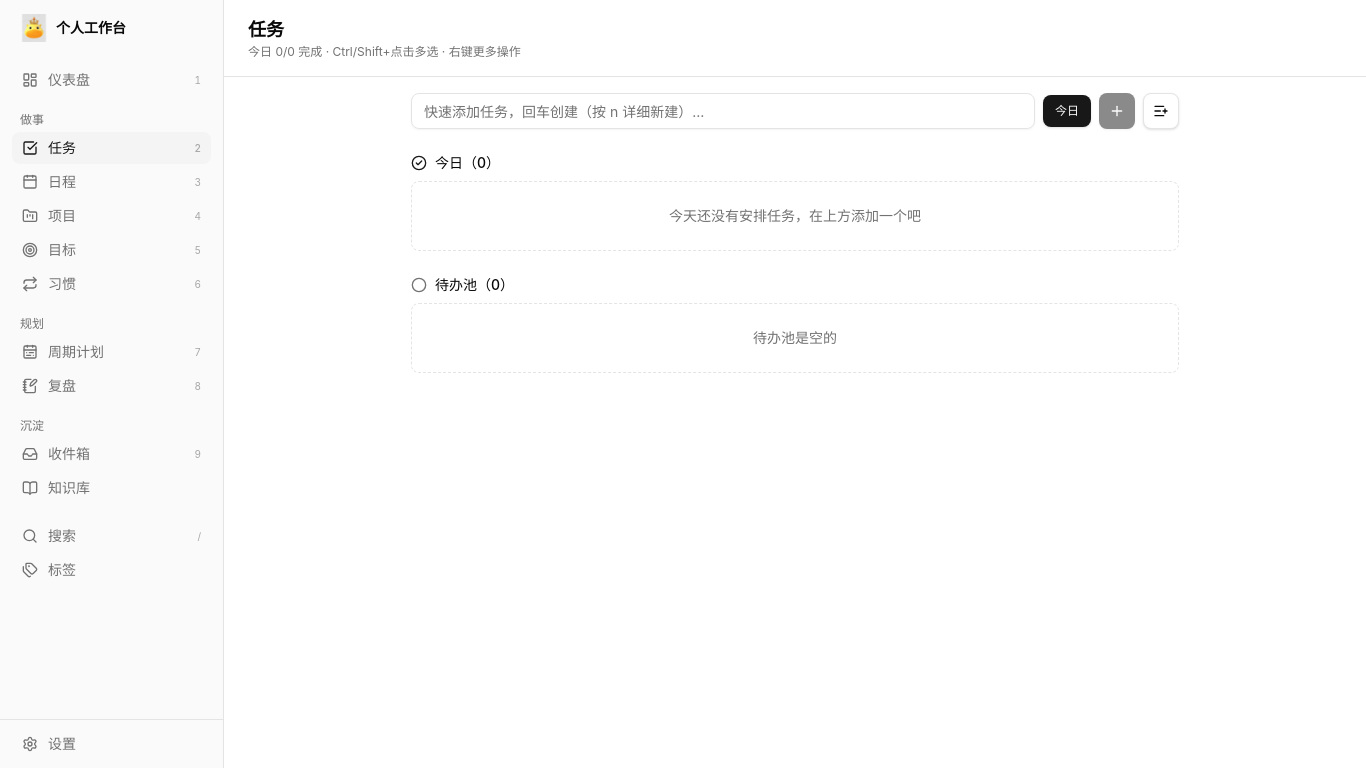
it: App 路由切换 › 切换到习惯页
The image size is (1366, 768).
Click the link "习惯 6": (30, 284) [22,275,201,292]
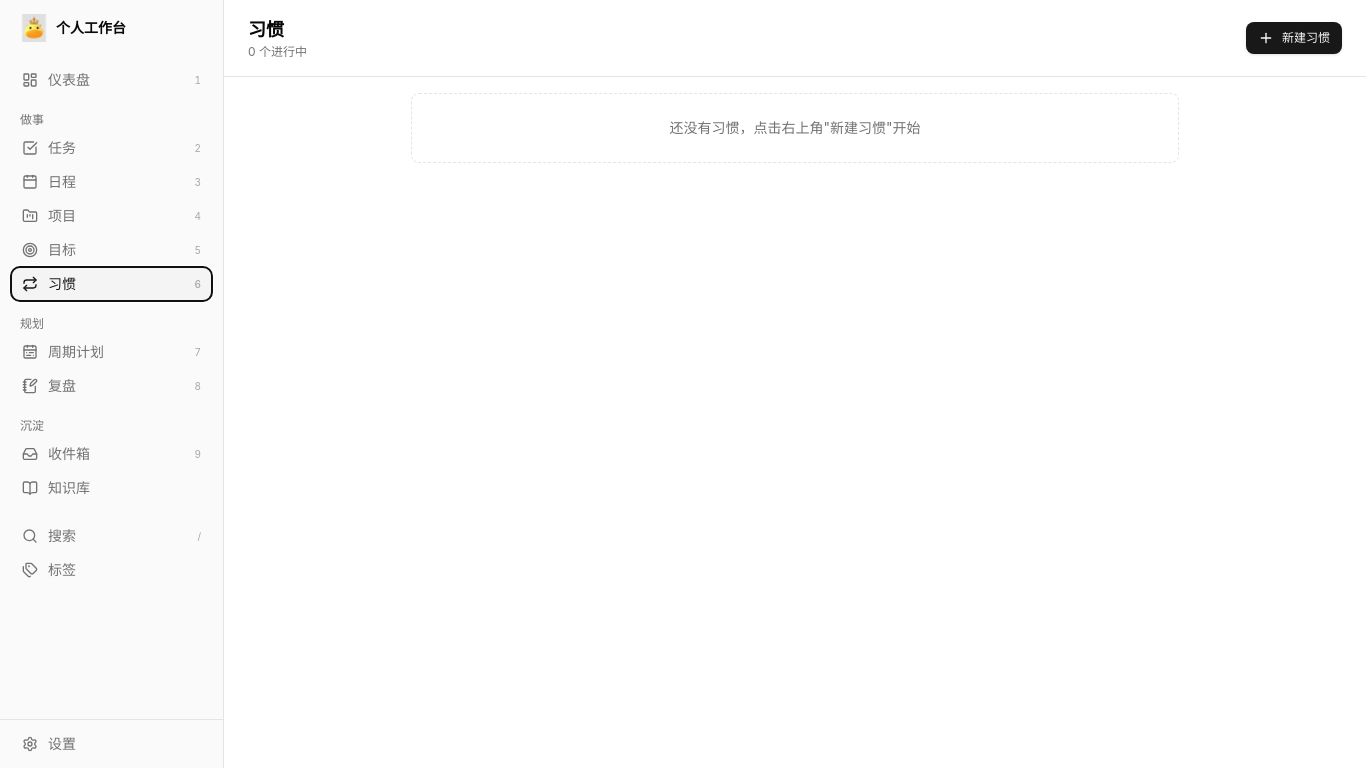
Result: the heading "习惯" is shown at [248,19,284,40]
